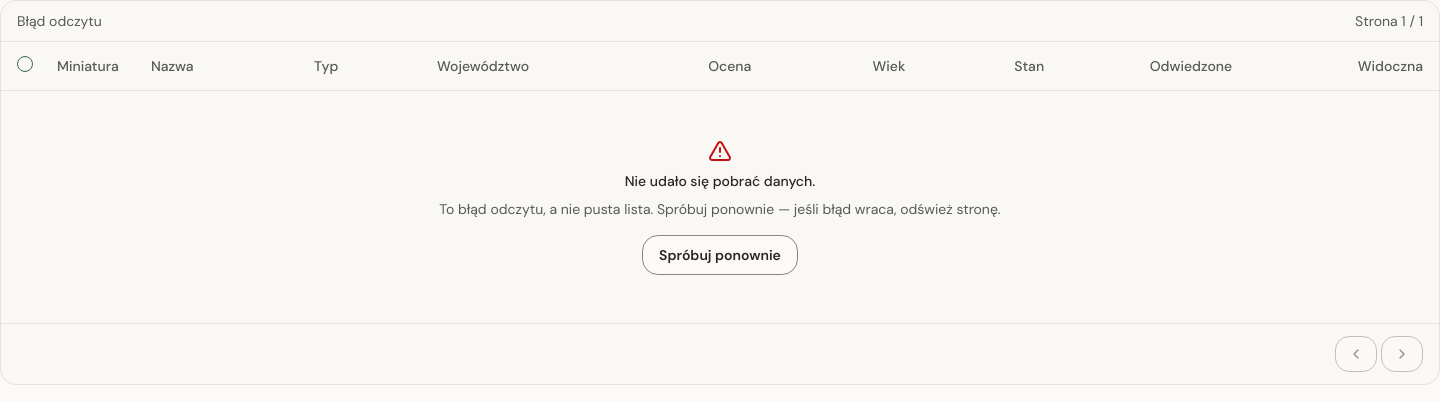
Test case: Panel admina — błąd odczytu listy nie udaje pustej kolejki (GL-3-018/046/054/058) › Katalog: 500 → stan błędu bez „Brak…”, ponowienie z pustą odpowiedzią → zwykła pusta kolejka
The image size is (1440, 402).
Check: the text "Nie udało się pobrać danych." is shown, box [625,170,815,190]
Check: the text "Brak rekordów" is not shown
Step 1. Click the button "Spróbuj ponownie" → point(720, 254), box [642,234,798,274]
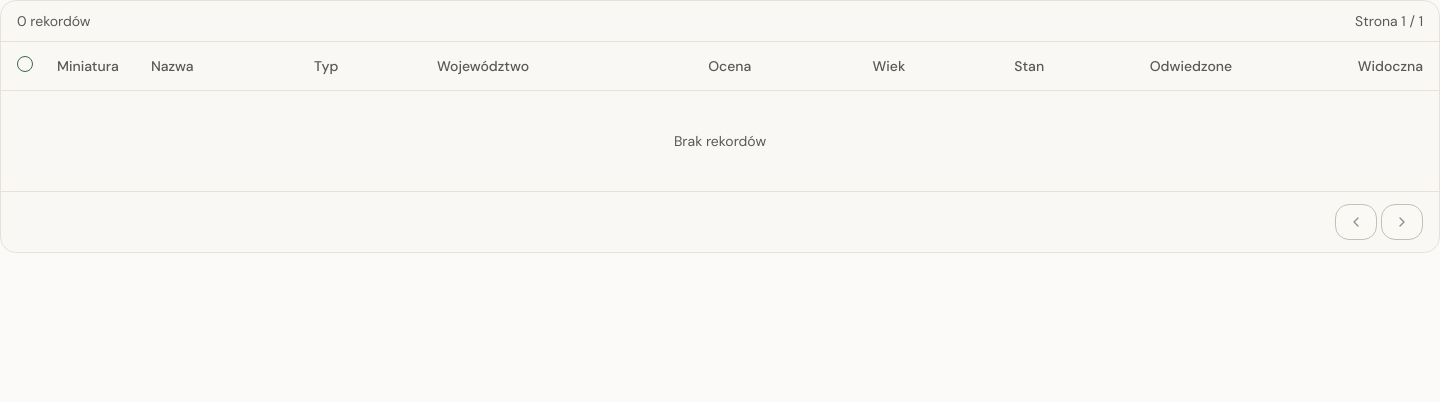
Check: the text "Brak rekordów" is shown, box [1,90,1439,190]
Check: the message is gone
Check: the text "Nie udało się pobrać danych." is gone
